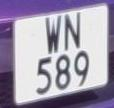5: (34, 54, 55, 98)
8: (53, 53, 74, 94)
9: (72, 48, 93, 90)
N: (63, 10, 84, 56)
W: (43, 12, 65, 58)
